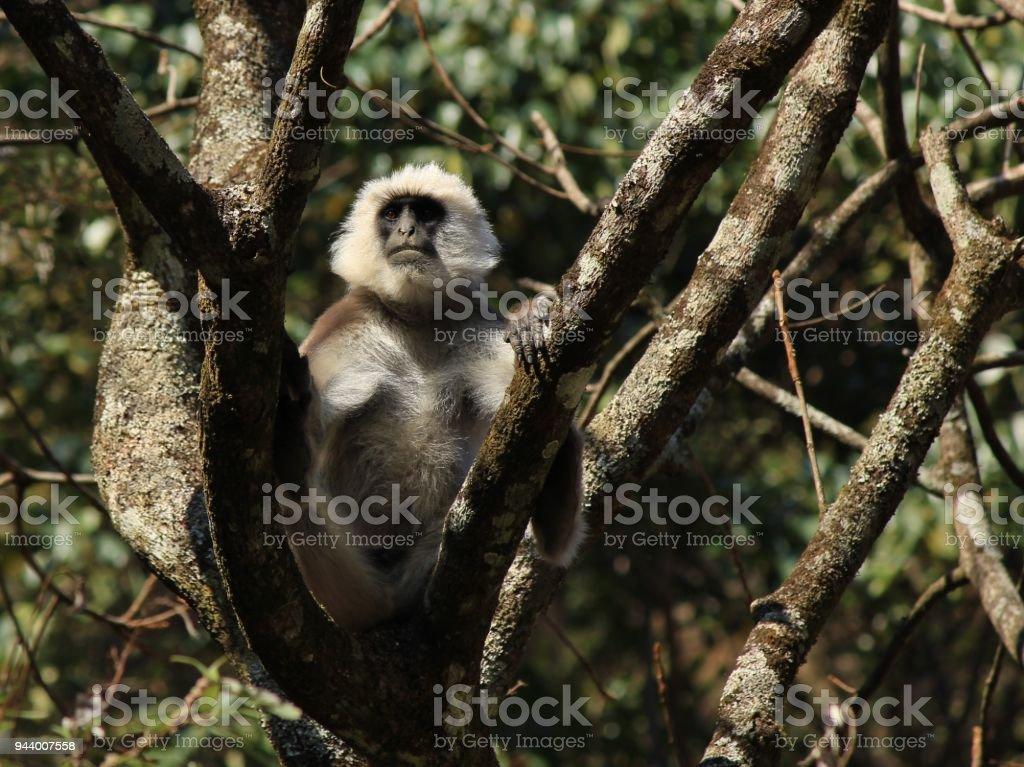monkey: (255, 162, 601, 627)
